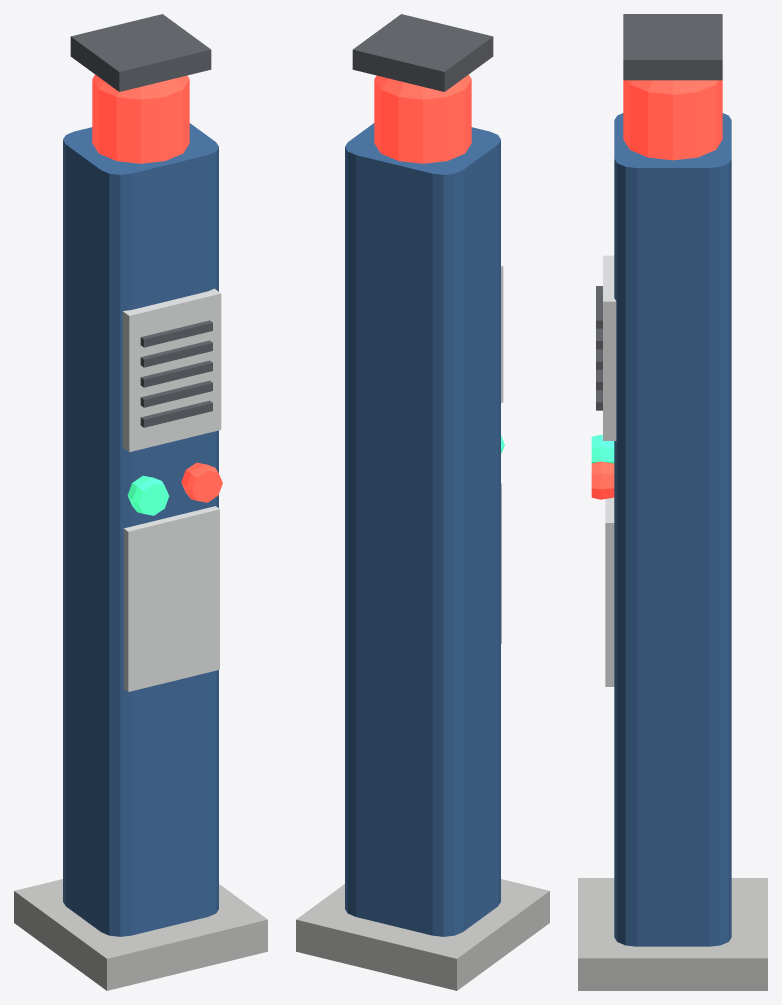
The model's file is modern-rail-and-metro-network-help-point-784ed345__13708.glb.
3 renders of one model, left to right at view 1: azimuth 30°, elevation 25°; view 2: azimuth 150°, elevation 25°; view 3: azimuth 270°, elevation 25°, orthographic. The views are drawn at different scales.
Parts seen in each view (by area): view 1: help-point; view 2: help-point; view 3: help-point.
Part boxes in pixels (x1,y1,x2,y2): help-point: [14, 14, 267, 990]; help-point: [296, 14, 549, 990]; help-point: [578, 14, 767, 990].
Size of the model in its own units: 0.42 by 2.23 by 0.42.
